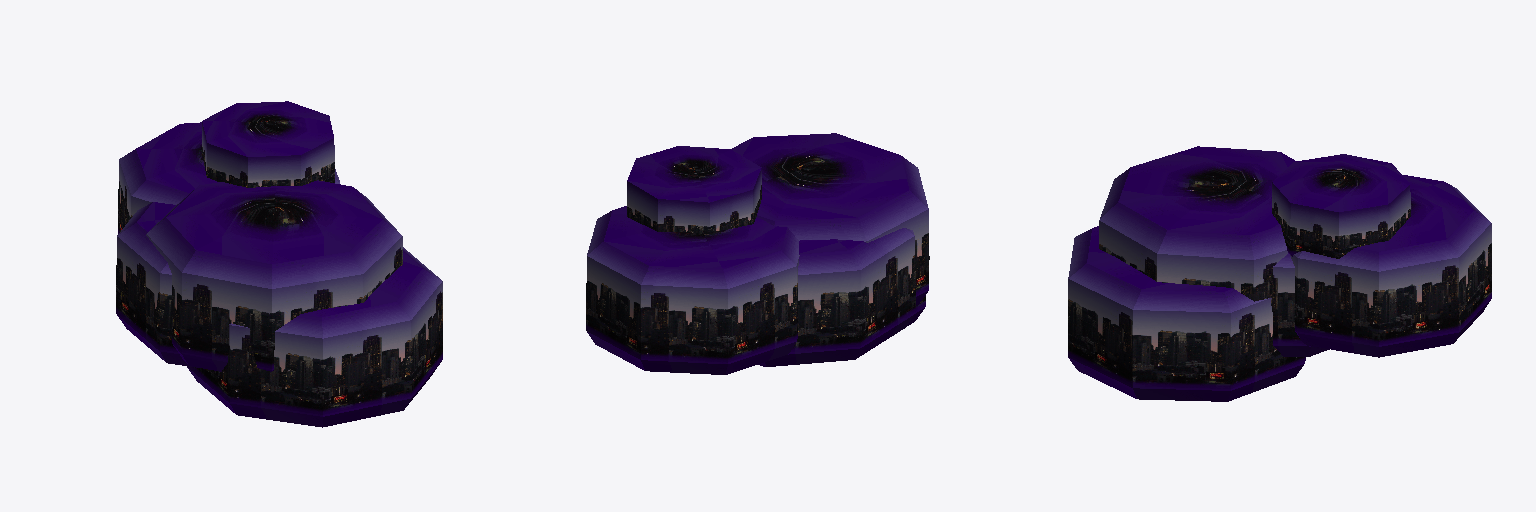
The picture shows the model from 3 angles: view 1: azimuth 30°, elevation 25°; view 2: azimuth 150°, elevation 25°; view 3: azimuth 270°, elevation 25°; orthographic projection.
Visible parts, largest first — view 1: STG0100_D_23, STG0100_D_18, STG0100_D_01, STG0100_D_20, STG0100_D_19; view 2: STG0100_D_19, STG0100_D_23, STG0100_D_20, STG0100_D_01; view 3: STG0100_D_18, STG0100_D_19, STG0100_D_23, STG0100_D_01, STG0100_D_20.
Part boxes in pixels (left/top/right/bottom): STG0100_D_23: left=146, top=180, right=402, bottom=371; STG0100_D_18: left=187, top=247, right=442, bottom=427; STG0100_D_01: left=202, top=101, right=334, bottom=187; STG0100_D_20: left=116, top=202, right=196, bottom=367; STG0100_D_19: left=118, top=122, right=339, bottom=233; STG0100_D_19: left=586, top=206, right=799, bottom=374; STG0100_D_23: left=731, top=133, right=929, bottom=305; STG0100_D_20: left=758, top=228, right=915, bottom=366; STG0100_D_01: left=627, top=146, right=761, bottom=233; STG0100_D_18: left=1068, top=226, right=1305, bottom=401; STG0100_D_19: left=1290, top=175, right=1491, bottom=357; STG0100_D_23: left=1099, top=146, right=1295, bottom=311; STG0100_D_01: left=1272, top=154, right=1410, bottom=258; STG0100_D_20: left=1273, top=253, right=1329, bottom=356.
Bounding box in the file's own units: 23163 × 18265 × 34941.
Materials: 77 (76 with a texture image).